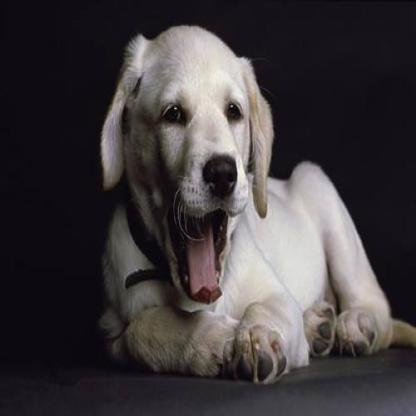Labarador Retriever: (103, 25, 416, 381)
